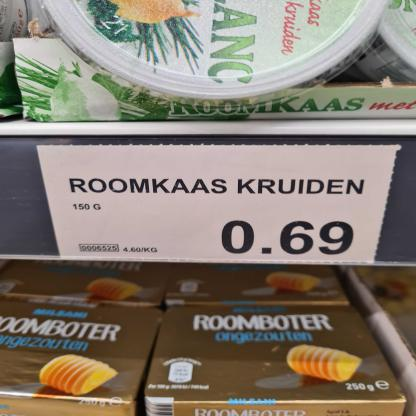prtg: (36, 146, 399, 264)
